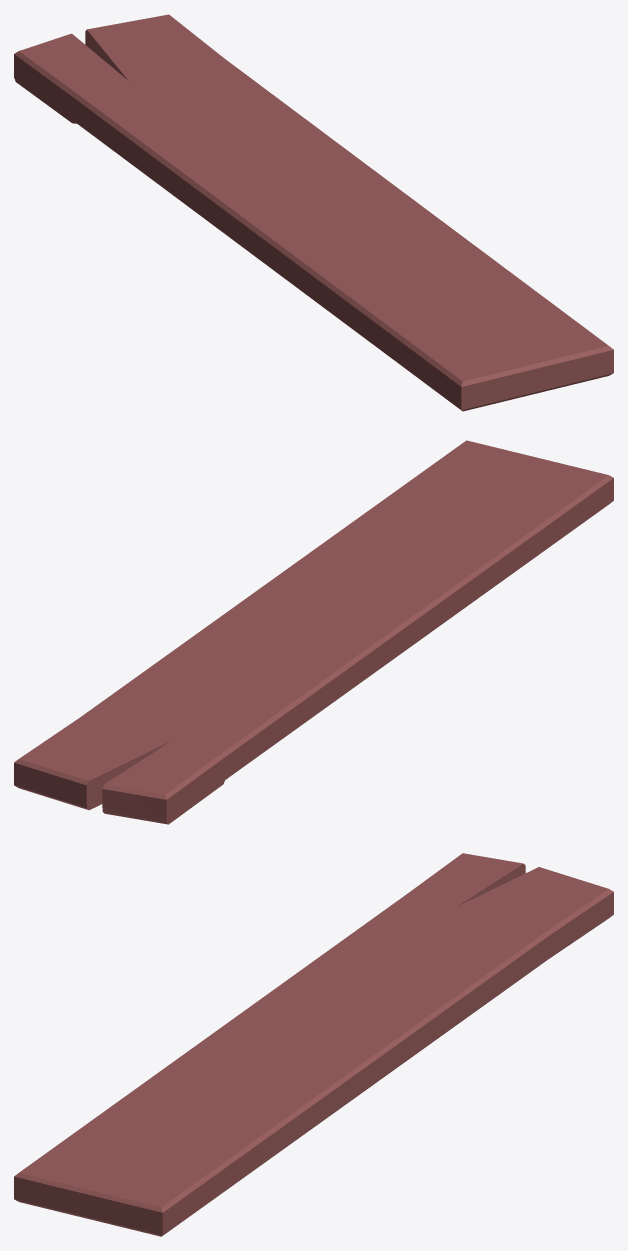
File: plank_A.FBX
3 views of the same model, one above another, from view 1: azimuth 30°, elevation 25°; view 2: azimuth 150°, elevation 25°; view 3: azimuth 330°, elevation 25° (orthographic). The views are drawn at different scales.
Parts seen in each view (by area): view 1: plank_A; view 2: plank_A; view 3: plank_A.
Boxes of the visible parts, <box> form: plank_A: <box>14,14,613,411</box>; plank_A: <box>14,440,613,824</box>; plank_A: <box>14,853,613,1236</box>.
Bounding box in the file's own units: 0.7047 × 0.1247 × 3.45.
